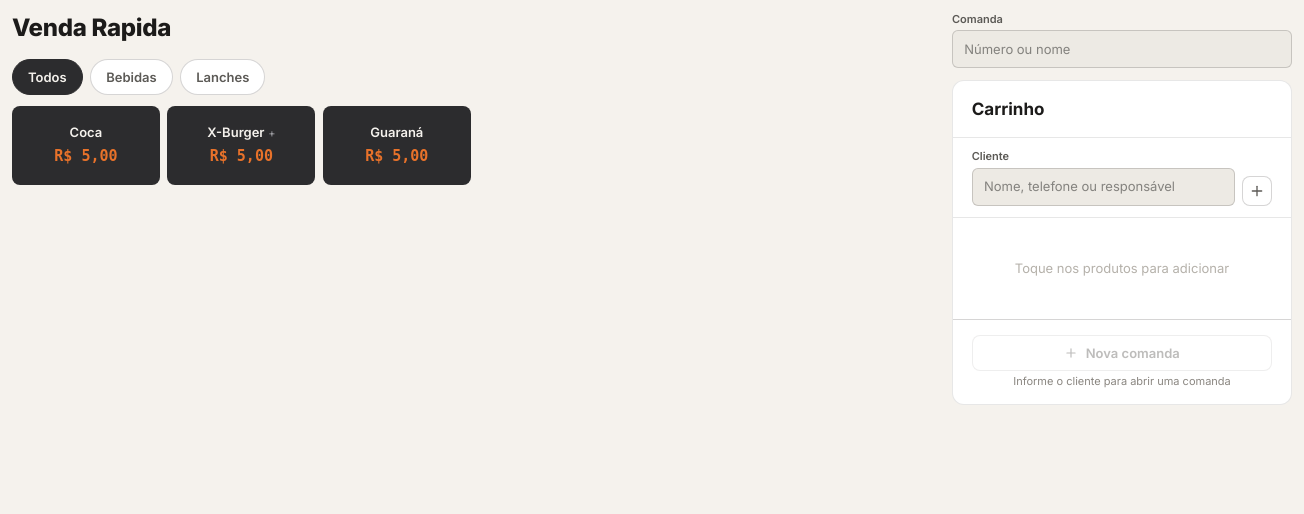
Scenario: PdvPage › adiciona ao carrinho normalmente mesmo quando o produto está sem estoque
Click the button "Guaraná R$ 5,00": click(397, 145) x1=323 y1=106 x2=471 y2=185
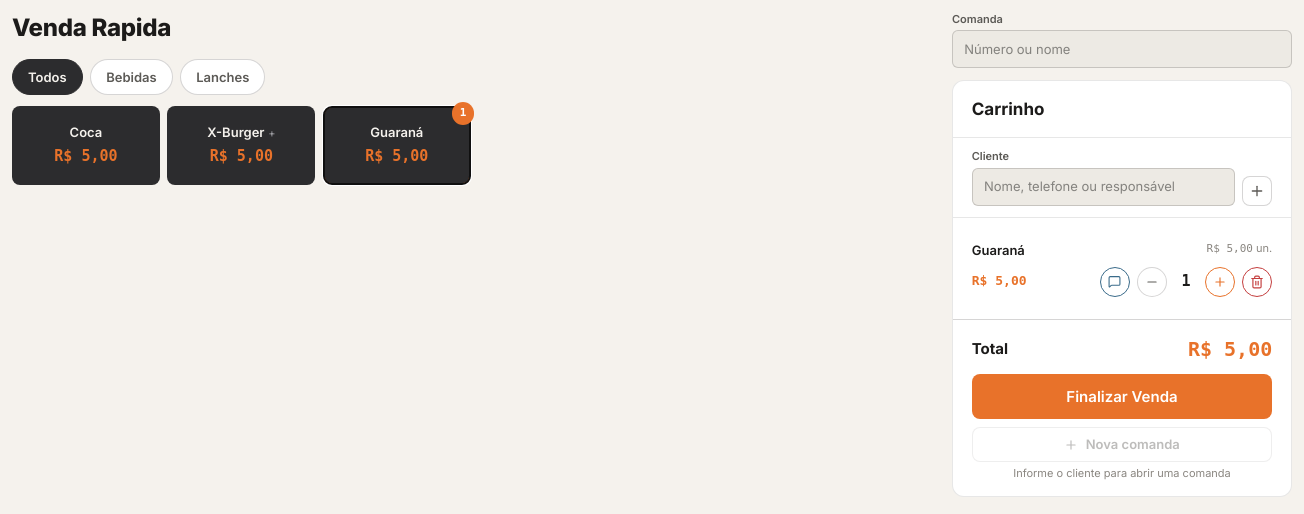
Result: the button "Finalizar Venda" is shown at x1=972 y1=374 x2=1272 y2=419
